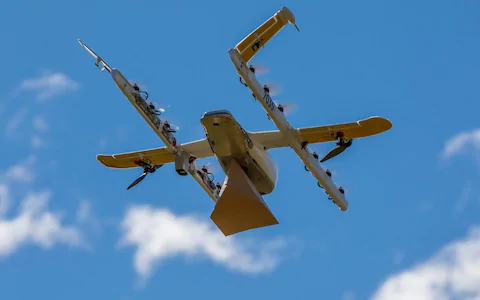drone: (72, 6, 395, 239)
